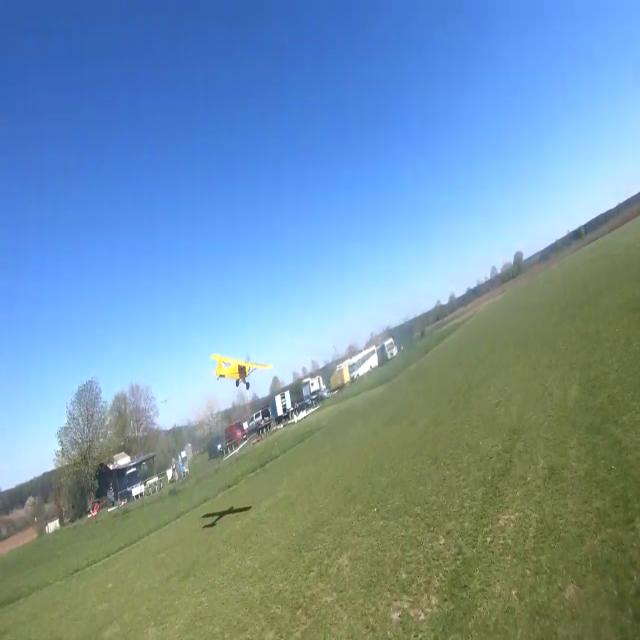iha: (241, 351, 243, 390)
